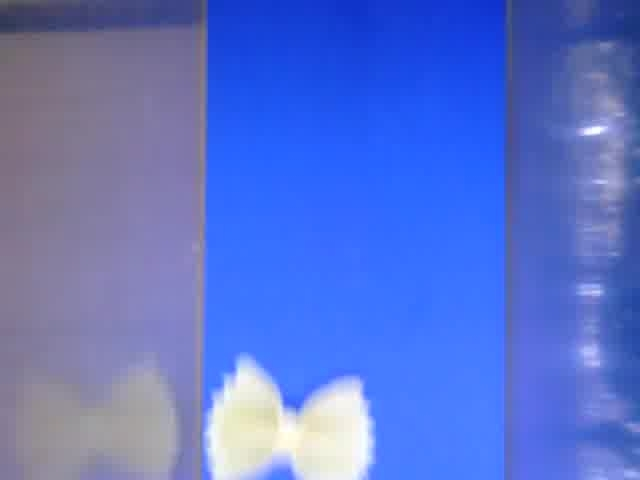farfalle: (204, 353, 374, 480)
